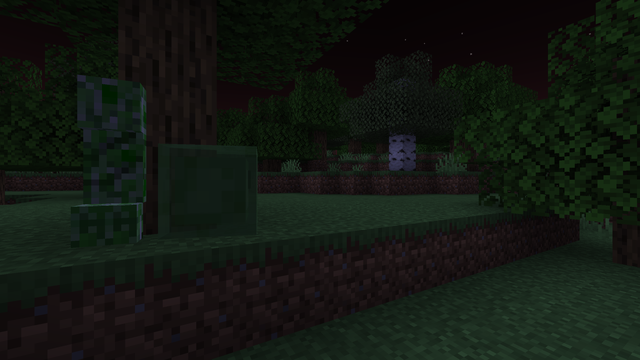creepers: (71, 62, 152, 246)
slimes: (169, 138, 269, 241)
